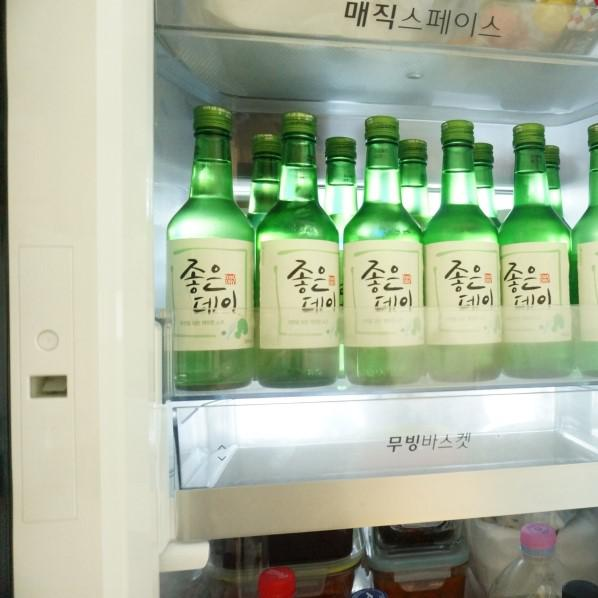soju: (164, 98, 598, 380)
